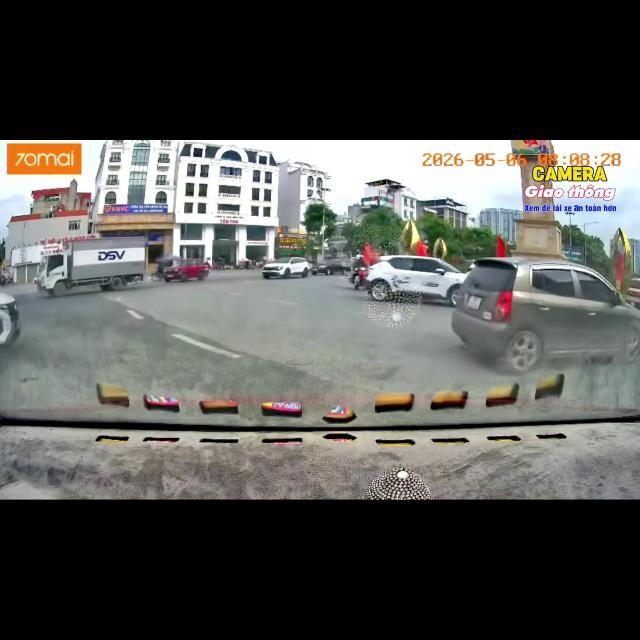car: (451, 257, 639, 373), (367, 255, 466, 306), (0, 293, 20, 345), (163, 259, 209, 281), (262, 257, 308, 278), (311, 260, 349, 275)
motorcycle: (354, 267, 367, 289)
truck: (36, 237, 146, 296)
